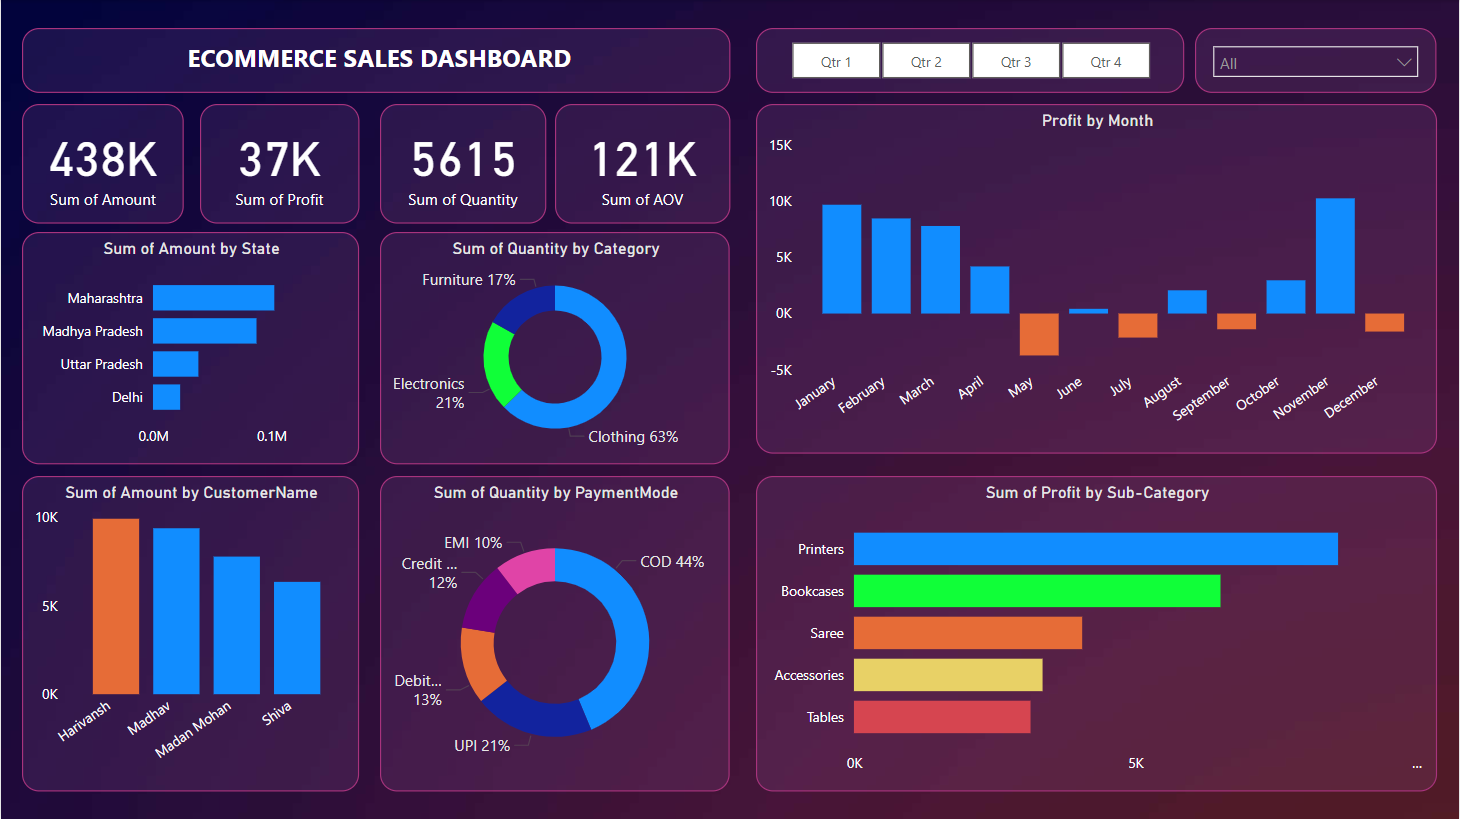

The page's visual inventory and layout, read from the dashboard file:
{"tool":"powerbi","page":{"name":"Page 1","canvas":[1280,720],"ordinal":0},"visuals":[{"type":"textbox","box":[18.4,24.6,621.7,57.1],"z":0},{"type":"columnChart","title":"Profit by Month","fields":{"Y":["Sum(Details.Profit)"],"Category":["Orders.Order Date.Variation.Date Hierarchy.Month"]},"box":[662.9,91.3,598,307.3],"z":1000},{"type":"barChart","fields":{"Category":["Details.Sub-Category"],"Y":["Sum(Details.Profit)"]},"box":[662.9,418,598,276.6],"z":2000},{"type":"donutChart","fields":{"Category":["Details.Category"],"Y":["Sum(Details.Quantity)"]},"box":[332.8,203.7,307.3,203.7],"z":3000},{"type":"donutChart","fields":{"Category":["Details.PaymentMode","Details.Category"],"Y":["Sum(Details.Quantity)"]},"box":[332.8,418,307.3,276.6],"z":4000},{"type":"card","fields":{"Values":["Sum(Details.Amount)"]},"box":[18.4,91.3,142.2,105.4],"z":5000},{"type":"card","fields":{"Values":["Sum(Details.Quantity)"]},"box":[332.8,91.3,145.8,105.4],"z":6000},{"type":"card","fields":{"Values":["Sum(Details.Profit)"]},"box":[174.7,91.3,139.6,105.4],"z":7000},{"type":"card","fields":{"Values":["Sum(Details.AOV)"]},"box":[486.4,91.3,153.7,105.4],"z":8000},{"type":"barChart","fields":{"Category":["Orders.State"],"Y":["Sum(Details.Amount)"]},"box":[18.4,203.7,295.9,203.7],"z":9000},{"type":"columnChart","fields":{"Category":["Orders.CustomerName"],"Y":["Sum(Details.Amount)"]},"box":[18.4,418,295.9,276.6],"z":10000},{"type":"slicer","fields":{"Values":["Orders.Order Date.Variation.Date Hierarchy.Quarter"]},"box":[662.9,24.6,375.8,57.1],"z":11000},{"type":"slicer","fields":{"Values":["Orders.State"]},"box":[1048.4,24.6,212.5,57.1],"z":12000}]}

Visuals, with their boxes in screenshot pixels (x1, y1, x2, y2), scaled from the page's 1280x720 canvas onto the 1460x819 screenshot:
textbox: bbox=(21, 28, 730, 93)
"Profit by Month" columnChart: bbox=(756, 104, 1438, 453)
barChart - Details.Sub-Category x Sum(Details.Profit): bbox=(756, 475, 1438, 790)
donutChart - Details.Category x Sum(Details.Quantity): bbox=(380, 232, 730, 463)
donutChart - Details.PaymentMode x Details.Category: bbox=(380, 475, 730, 790)
card - Sum(Details.Amount): bbox=(21, 104, 183, 224)
card - Sum(Details.Quantity): bbox=(380, 104, 546, 224)
card - Sum(Details.Profit): bbox=(199, 104, 358, 224)
card - Sum(Details.AOV): bbox=(555, 104, 730, 224)
barChart - Orders.State x Sum(Details.Amount): bbox=(21, 232, 358, 463)
columnChart - Orders.CustomerName x Sum(Details.Amount): bbox=(21, 475, 358, 790)
slicer - Orders.Order Date.Variation.Date Hierarchy.Quarter: bbox=(756, 28, 1185, 93)
slicer - Orders.State: bbox=(1196, 28, 1438, 93)
